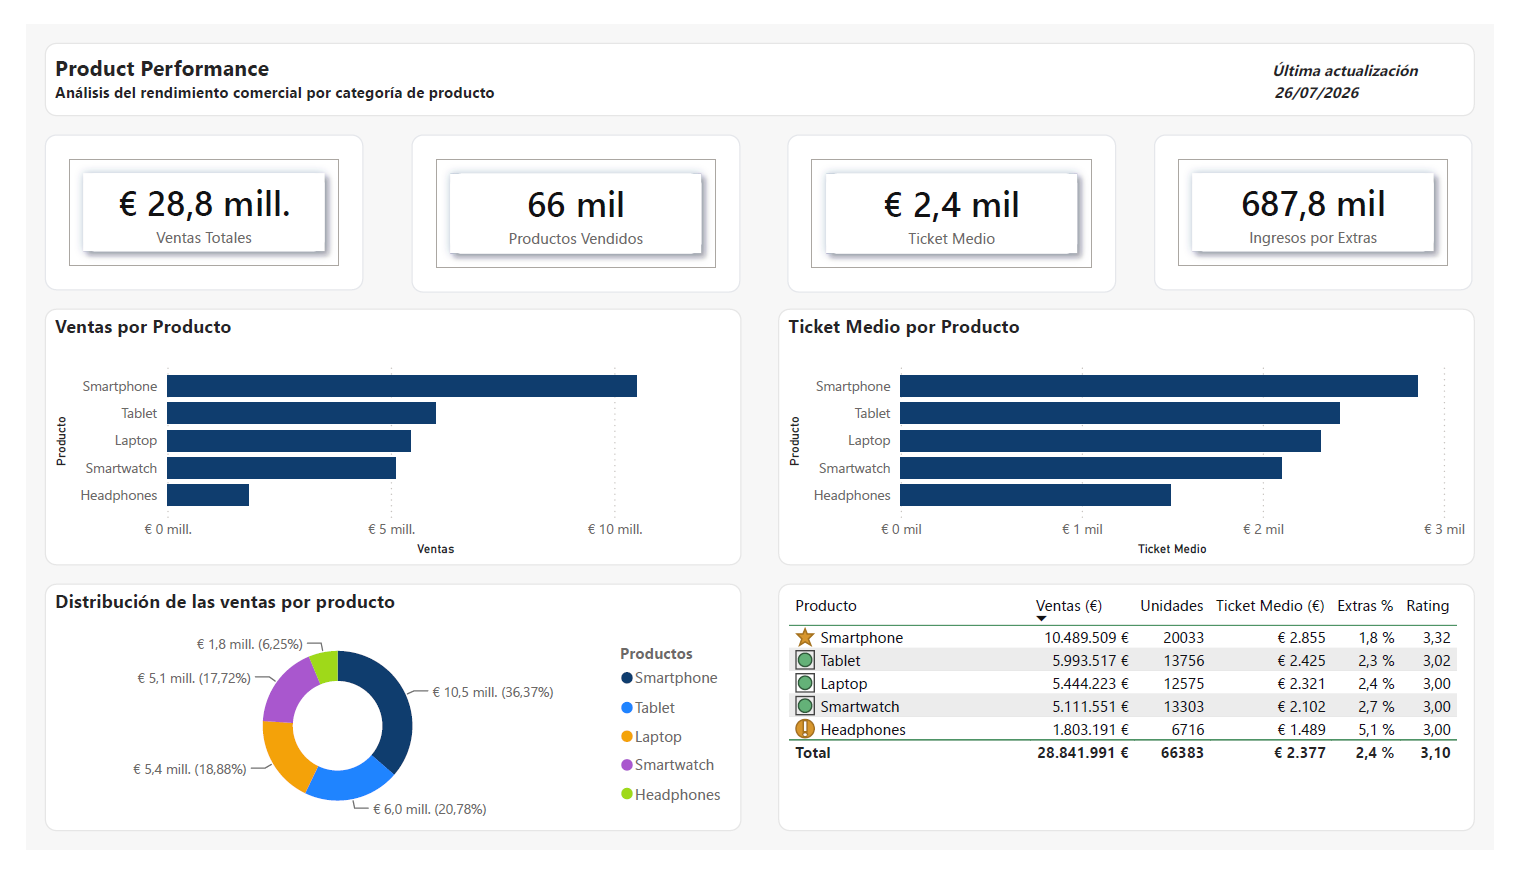

The dashboard page shown, as its layout file describes it:
{"tool":"powerbi","page":{"name":"Product Performance","canvas":[1280,720],"ordinal":2},"visuals":[{"type":"textbox","box":[16,16,1248,64],"z":0},{"type":"group","id":"g1","title":"Grupo 1","box":[16,96,280,136],"z":1000,"group":"g5"},{"type":"tableEx","fields":{"Values":["Products.product_type","_Measures.Total Sales","_Measures.Products Sold","_Measures.Average Customer Value","_Measures.Addon Revenue %","_Measures.Average Rating"]},"box":[656,488,608,216],"z":1000},{"type":"group","id":"g2","title":"Grupo 1","box":[984,96,280,136],"z":2000,"group":"g5"},{"type":"donutChart","title":"Distribución de las ventas por producto","fields":{"Category":["Products.product_type"],"Y":["_Measures.Total Sales"]},"box":[16,488,608,216],"z":2000},{"type":"group","id":"g3","title":"Grupo 1","box":[336,96,280,136],"z":3000,"group":"g5"},{"type":"clusteredBarChart","fields":{"Category":["Products.product_type"],"Y":["_Measures.Total Sales"]},"box":[16,248,608,224],"z":3000},{"type":"cardVisual","title":"Ventas Totales","fields":{"Data":["_Measures.Total Sales"]},"box":[16,96,277.7,136],"z":4000,"group":"g1"},{"type":"cardVisual","title":"Ventas Totales","fields":{"Data":["_Measures.Products Sold"]},"box":[336,96,287,137.8],"z":4000,"group":"g3"},{"type":"group","id":"g4","title":"Grupo 1","box":[664,96,280,136],"z":4000,"group":"g5"},{"type":"cardVisual","title":"Ventas Totales","fields":{"Data":["_Measures.Average Order Value"]},"box":[664,96,287,137.8],"z":4000,"group":"g4"},{"type":"cardVisual","title":"Ventas Totales","fields":{"Data":["_Measures.Addon Revenue"]},"box":[984,96,277.7,136],"z":4000,"group":"g2"},{"type":"clusteredBarChart","fields":{"Category":["Products.product_type"],"Y":["_Measures.Average Order Value"]},"box":[656,248,608,224],"z":4000},{"type":"group","id":"g5","title":"Grupo 2","box":[16,96,1248,136],"z":5000}]}

Visuals, with their boxes in screenshot pixels (x1, y1, x2, y2), scaled from the page's 1280x720 canvas onto the 1517x873 screenshot:
textbox: Rect(19, 19, 1498, 97)
"Grupo 1" group: Rect(19, 116, 351, 281)
tableEx - Products.product_type x _Measures.Total Sales: Rect(777, 592, 1498, 854)
"Grupo 1" group: Rect(1166, 116, 1498, 281)
"Distribución de las ventas por producto" donutChart: Rect(19, 592, 740, 854)
"Grupo 1" group: Rect(398, 116, 730, 281)
clusteredBarChart - Products.product_type x _Measures.Total Sales: Rect(19, 301, 740, 572)
"Ventas Totales" cardVisual: Rect(19, 116, 348, 281)
"Ventas Totales" cardVisual: Rect(398, 116, 738, 283)
"Grupo 1" group: Rect(787, 116, 1119, 281)
"Ventas Totales" cardVisual: Rect(787, 116, 1127, 283)
"Ventas Totales" cardVisual: Rect(1166, 116, 1495, 281)
clusteredBarChart - Products.product_type x _Measures.Average Order Value: Rect(777, 301, 1498, 572)
"Grupo 2" group: Rect(19, 116, 1498, 281)
